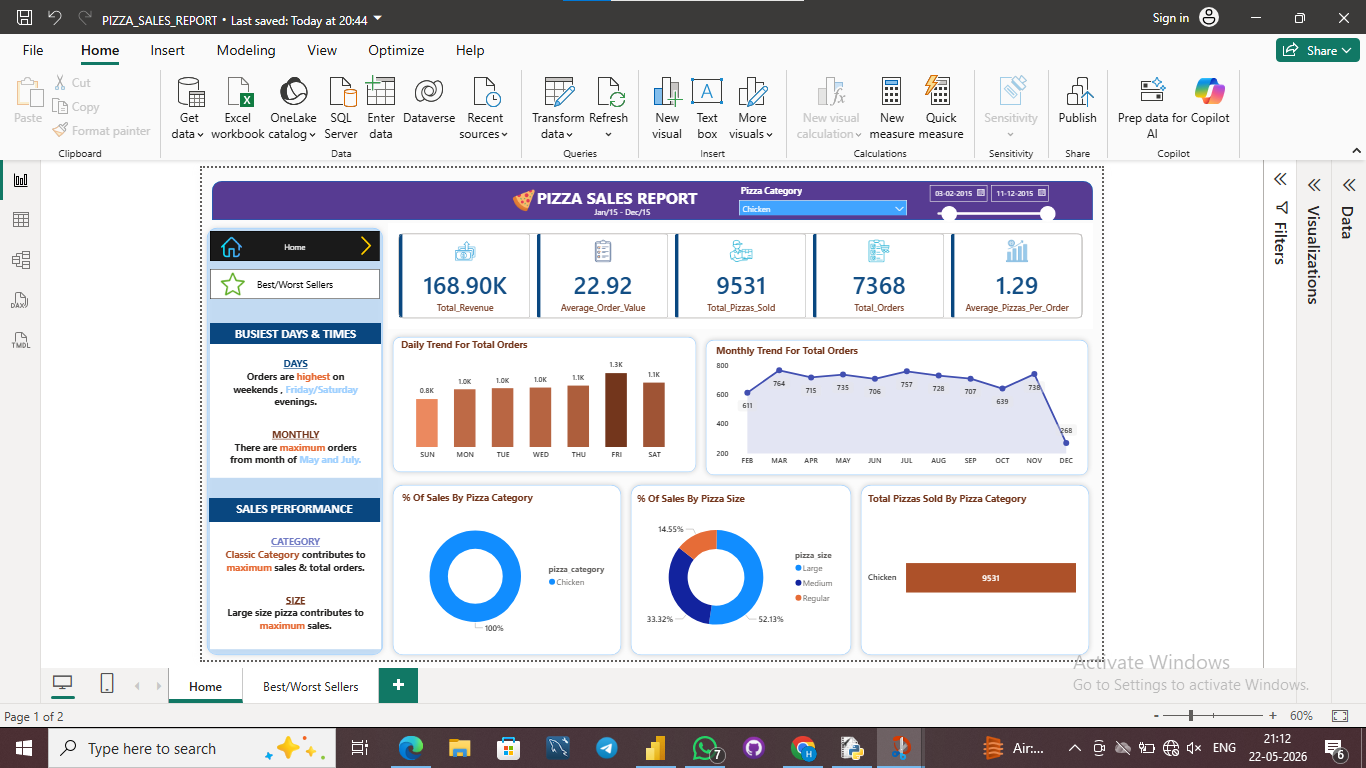

Layout of this report page (visuals, bound fields, positions):
{"tool":"powerbi","page":{"name":"Home","canvas":[1500,820],"ordinal":0},"visuals":[{"type":"shape","box":[0,91.7,310,728.3],"z":0},{"type":"cardVisual","fields":{"Data":["pizza_db pizza_sales.Total_Revenue","pizza_db pizza_sales.Average_Order_Value","pizza_db pizza_sales.Total_Pizzas_Sold","pizza_db pizza_sales.Total_Orders","pizza_db pizza_sales.Average_Pizzas_Per_Order"]},"box":[310,91.7,1175,176.7],"z":1000},{"type":"shape","box":[16.7,21.7,1468.3,65],"z":2000},{"type":"textbox","box":[551.7,26.7,280,56.7],"z":3000},{"type":"textbox","box":[641.7,60,128.3,45],"z":4000},{"type":"image","box":[508.3,35,56.7,38.3],"z":5000},{"type":"shape","box":[310,273.3,521.7,241.7],"z":6000},{"type":"columnChart","title":"Daily Trend For Total Orders","fields":{"Category":["pizza_db pizza_sales.Order_Day"],"Y":["pizza_db pizza_sales.Total_Orders"]},"box":[326.7,283.3,476.7,211.7],"z":7000},{"type":"shape","box":[831.7,278.3,653.3,241.7],"z":8000},{"type":"areaChart","title":"Monthly Trend For Total Orders","fields":{"Category":["pizza_db pizza_sales.Order_Month"],"Y":["pizza_db pizza_sales.Total_Orders"]},"box":[851.7,293.3,615,211.7],"z":9000},{"type":"shape","box":[706.7,520,383.3,300],"z":10000},{"type":"shape","box":[1090,520,396.7,300],"z":11000},{"type":"shape","box":[310,520,396.7,300],"z":12000},{"type":"donutChart","title":"% Of Sales By Pizza Category","fields":{"Category":["pizza_db pizza_sales.pizza_category"],"Y":["pizza_db pizza_sales.Total_Revenue"]},"box":[328.3,538.3,363.3,263.3],"z":13000},{"type":"donutChart","title":"% Of Sales By Pizza Size","fields":{"Y":["pizza_db pizza_sales.Total_Revenue"],"Category":["pizza_db pizza_sales.pizza_size"]},"box":[720,540,353.3,263.3],"z":14000},{"type":"funnel","title":"Total Pizzas Sold By Pizza Category","fields":{"Category":["pizza_db pizza_sales.pizza_category"],"Y":["pizza_db pizza_sales.Total_Pizzas_Sold"]},"box":[1105,540,361.7,263.3],"z":15000},{"type":"textbox","box":[13.3,258.3,285,40],"z":16000},{"type":"textbox","box":[13.3,293.3,285,223],"z":17000},{"type":"textbox","box":[13.3,590,285,211.7],"z":18000},{"type":"textbox","box":[11.7,550,285,40],"z":19000},{"type":"slicer","title":"Pizza Category","fields":{"Values":["pizza_db pizza_sales.pizza_category"]},"box":[885,21.7,300,56.7],"z":20000},{"type":"slicer","title":"Pizza Category","fields":{"Values":["pizza_db pizza_sales.order_date"]},"box":[1200,18.3,241.7,83.3],"z":21000},{"type":"pageNavigator","box":[13.3,105,283.3,50],"z":22000},{"type":"pageNavigator","box":[13.3,168.3,283.3,50],"z":23000},{"type":"image","box":[250,113.3,46.7,31.7],"z":24000},{"type":"image","box":[31.7,108.3,35,46.7],"z":25000},{"type":"image","box":[13.3,173.3,75,40],"z":26000}]}

Visuals, with their boxes on the page's 1500x820 design canvas (x1, y1, x2, y2). These are canvas units, not pixel positions in the 1366x768 screenshot, which may show the page scaled, cropped or inside an application window:
shape: (0,92,310,820)
cardVisual - pizza_db pizza_sales.Total_Revenue x pizza_db pizza_sales.Average_Order_Value: (310,92,1485,268)
shape: (17,22,1485,87)
textbox: (552,27,832,83)
textbox: (642,60,770,105)
image: (508,35,565,73)
shape: (310,273,832,515)
"Daily Trend For Total Orders" columnChart: (327,283,803,495)
shape: (832,278,1485,520)
"Monthly Trend For Total Orders" areaChart: (852,293,1467,505)
shape: (707,520,1090,820)
shape: (1090,520,1487,820)
shape: (310,520,707,820)
"% Of Sales By Pizza Category" donutChart: (328,538,692,802)
"% Of Sales By Pizza Size" donutChart: (720,540,1073,803)
"Total Pizzas Sold By Pizza Category" funnel: (1105,540,1467,803)
textbox: (13,258,298,298)
textbox: (13,293,298,516)
textbox: (13,590,298,802)
textbox: (12,550,297,590)
"Pizza Category" slicer: (885,22,1185,78)
"Pizza Category" slicer: (1200,18,1442,102)
pageNavigator: (13,105,297,155)
pageNavigator: (13,168,297,218)
image: (250,113,297,145)
image: (32,108,67,155)
image: (13,173,88,213)
